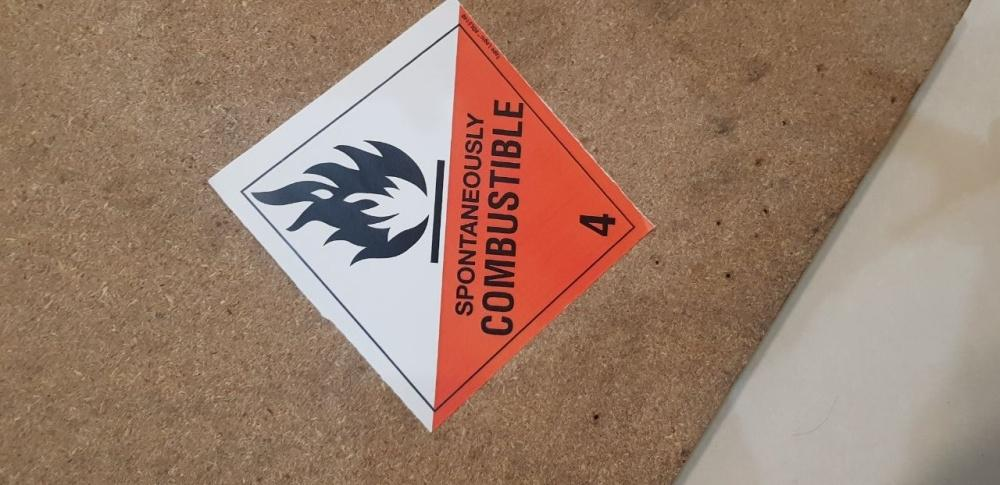spontaneously-combustible: (203, 1, 656, 436)
